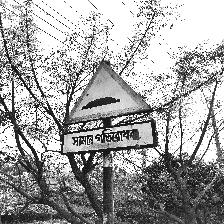Speed-breaker: (61, 61, 156, 156)
